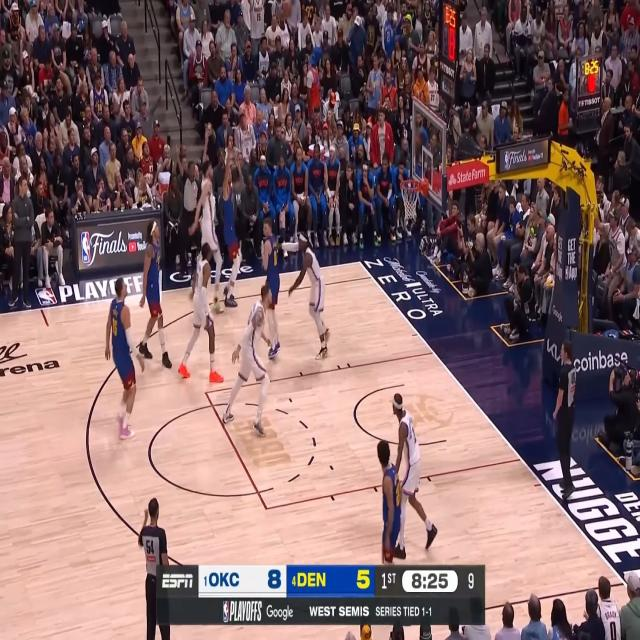ball: (281, 0, 293, 20)
number: (112, 316, 117, 338)
player: (390, 391, 439, 559), (222, 282, 274, 440), (275, 234, 331, 363), (188, 123, 225, 314), (104, 277, 145, 441), (178, 242, 225, 384), (137, 219, 173, 369), (220, 137, 246, 308), (377, 438, 402, 564), (260, 216, 280, 362)
referee: (136, 497, 173, 640), (553, 340, 577, 502), (175, 143, 201, 281)
rim: (398, 178, 422, 190)
